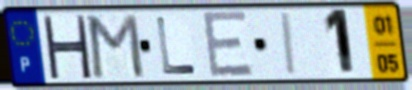1: (321, 7, 358, 80)
E: (200, 10, 257, 82)
H: (39, 14, 94, 81)
I: (280, 11, 300, 78)
L: (153, 15, 199, 77)
M: (86, 12, 147, 81)
